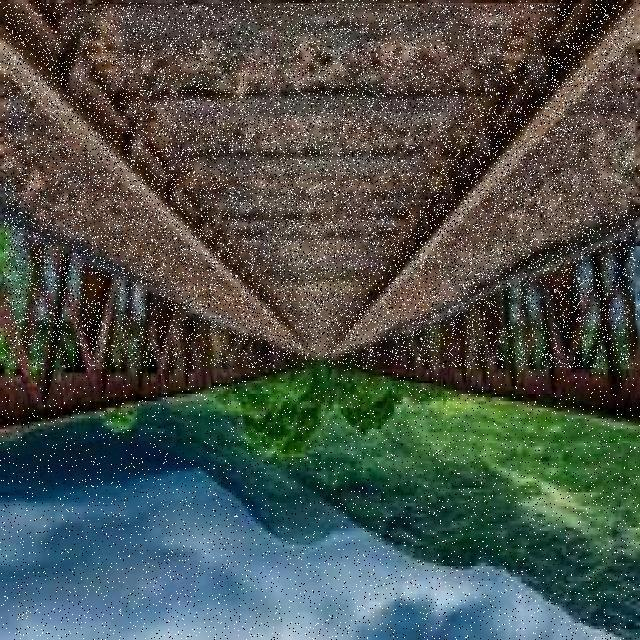rail: (5, 6, 635, 368)
